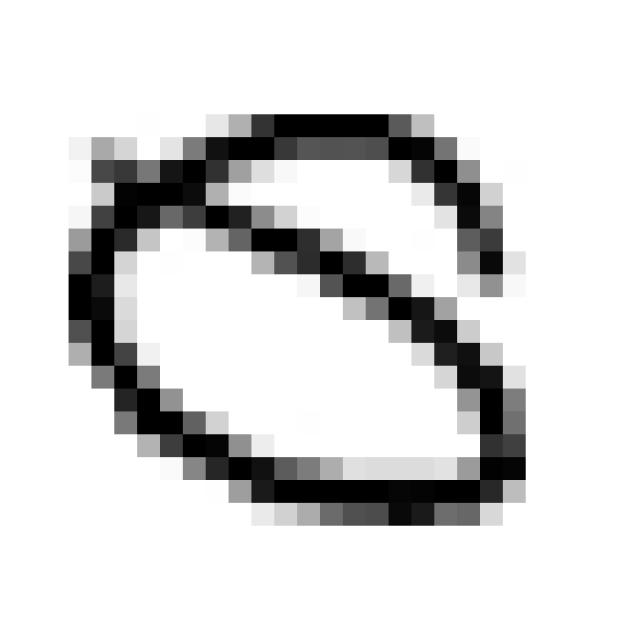5 -five-: (48, 87, 544, 539)
